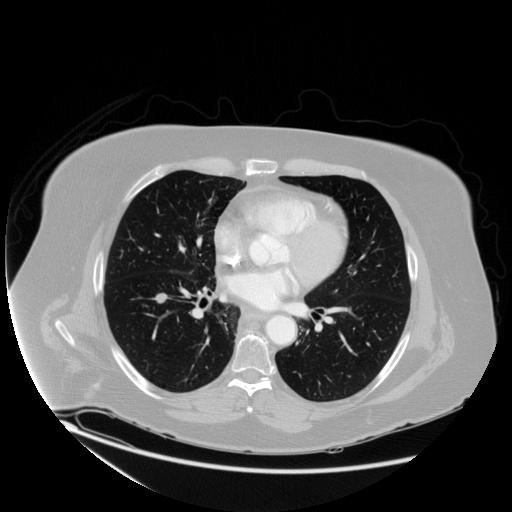nodule: (153, 290, 169, 306)
